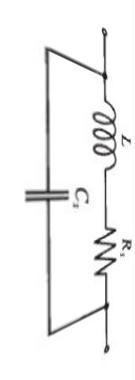inductor: (79, 83, 118, 180)
